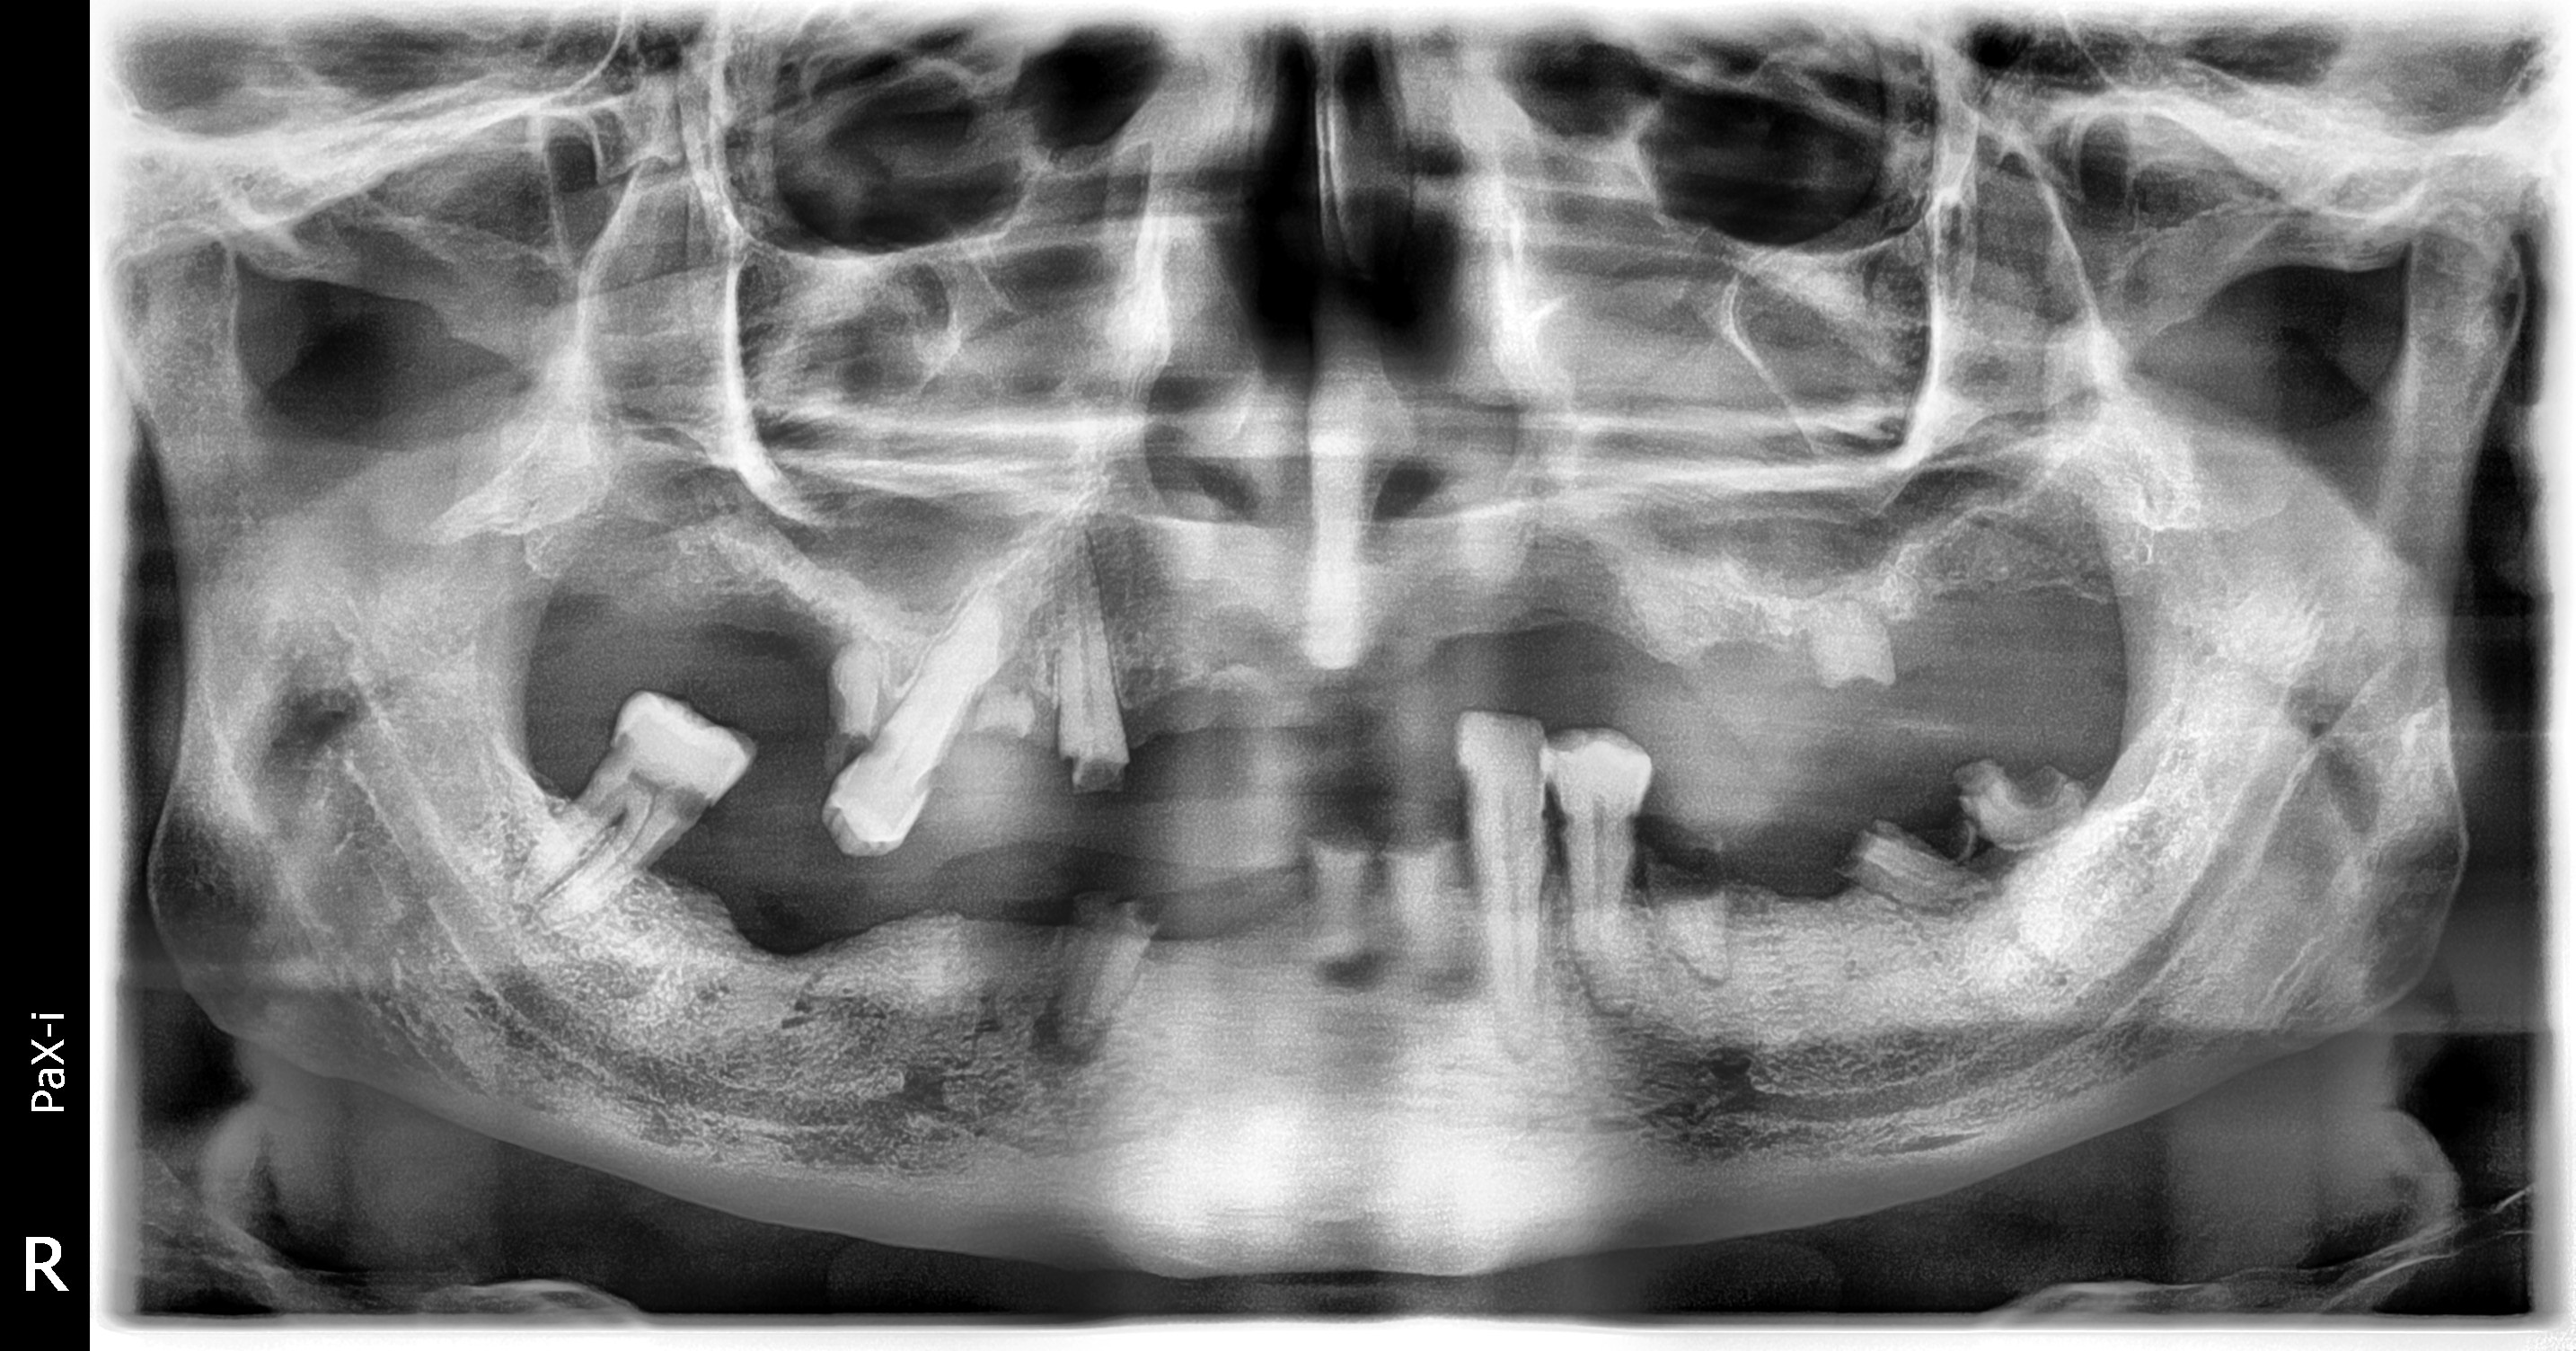API: (1014, 997, 1099, 1107)
CAR: (574, 695, 656, 790), (1075, 733, 1160, 819), (656, 755, 736, 847), (835, 707, 927, 784), (888, 748, 966, 808), (1533, 785, 1590, 852), (1049, 751, 1099, 792)
ROT: (1014, 882, 1208, 1068), (1794, 787, 2014, 951), (1765, 566, 1946, 729), (1269, 790, 1400, 1000), (1627, 808, 1758, 1014), (1939, 727, 2109, 869), (1368, 828, 1470, 995), (808, 629, 905, 756), (959, 666, 1051, 753)
